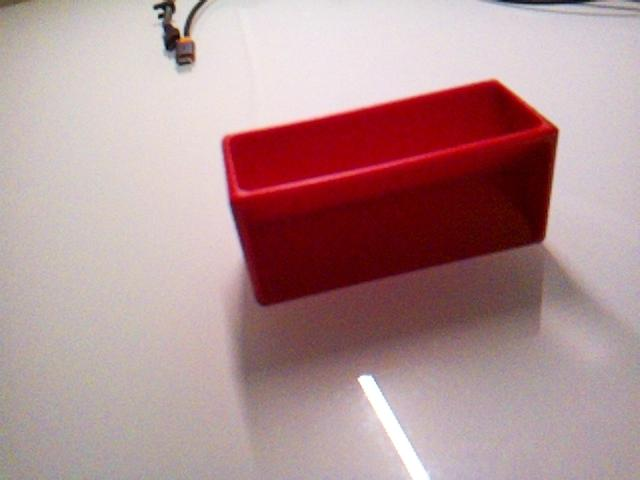red: (220, 77, 560, 307)
